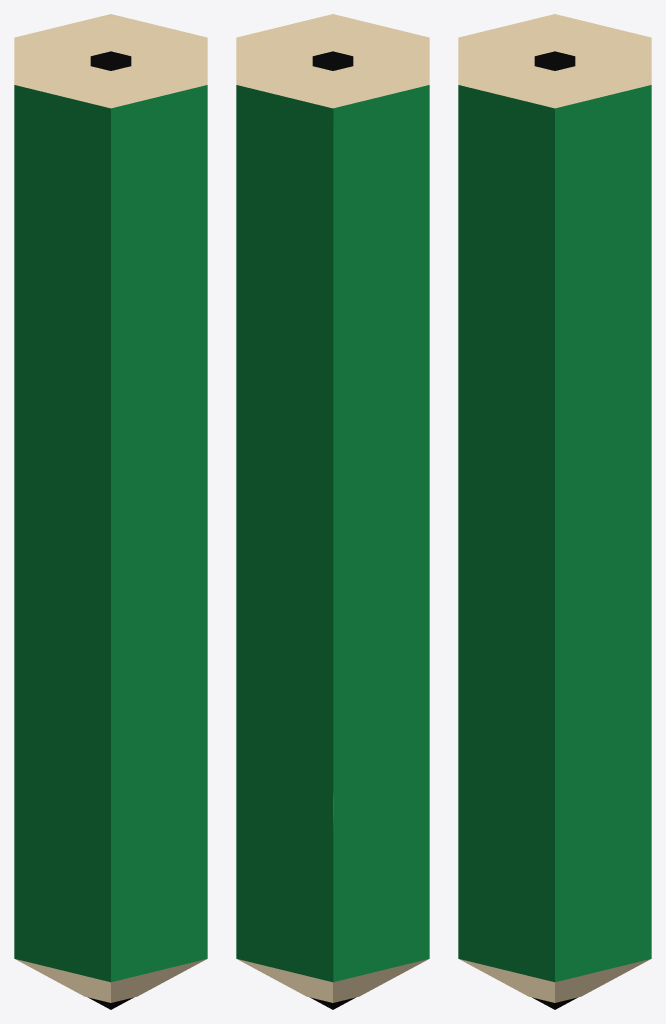
File: pencil.obj
The picture shows the model from 3 angles, left to right: view 1: azimuth 30°, elevation 25°; view 2: azimuth 150°, elevation 25°; view 3: azimuth 270°, elevation 25°; orthographic projection.
Parts seen in each view (by area): view 1: Cylinder_Cylinder.001; view 2: Cylinder_Cylinder.001; view 3: Cylinder_Cylinder.001.
Boxes of the visible parts, <box> form: Cylinder_Cylinder.001: <box>14,14,207,1009</box>; Cylinder_Cylinder.001: <box>236,14,429,1009</box>; Cylinder_Cylinder.001: <box>458,14,651,1009</box>.
Size of the model in its own units: 0.732 by 3.43 by 0.634.
1 material, 1 textured.
